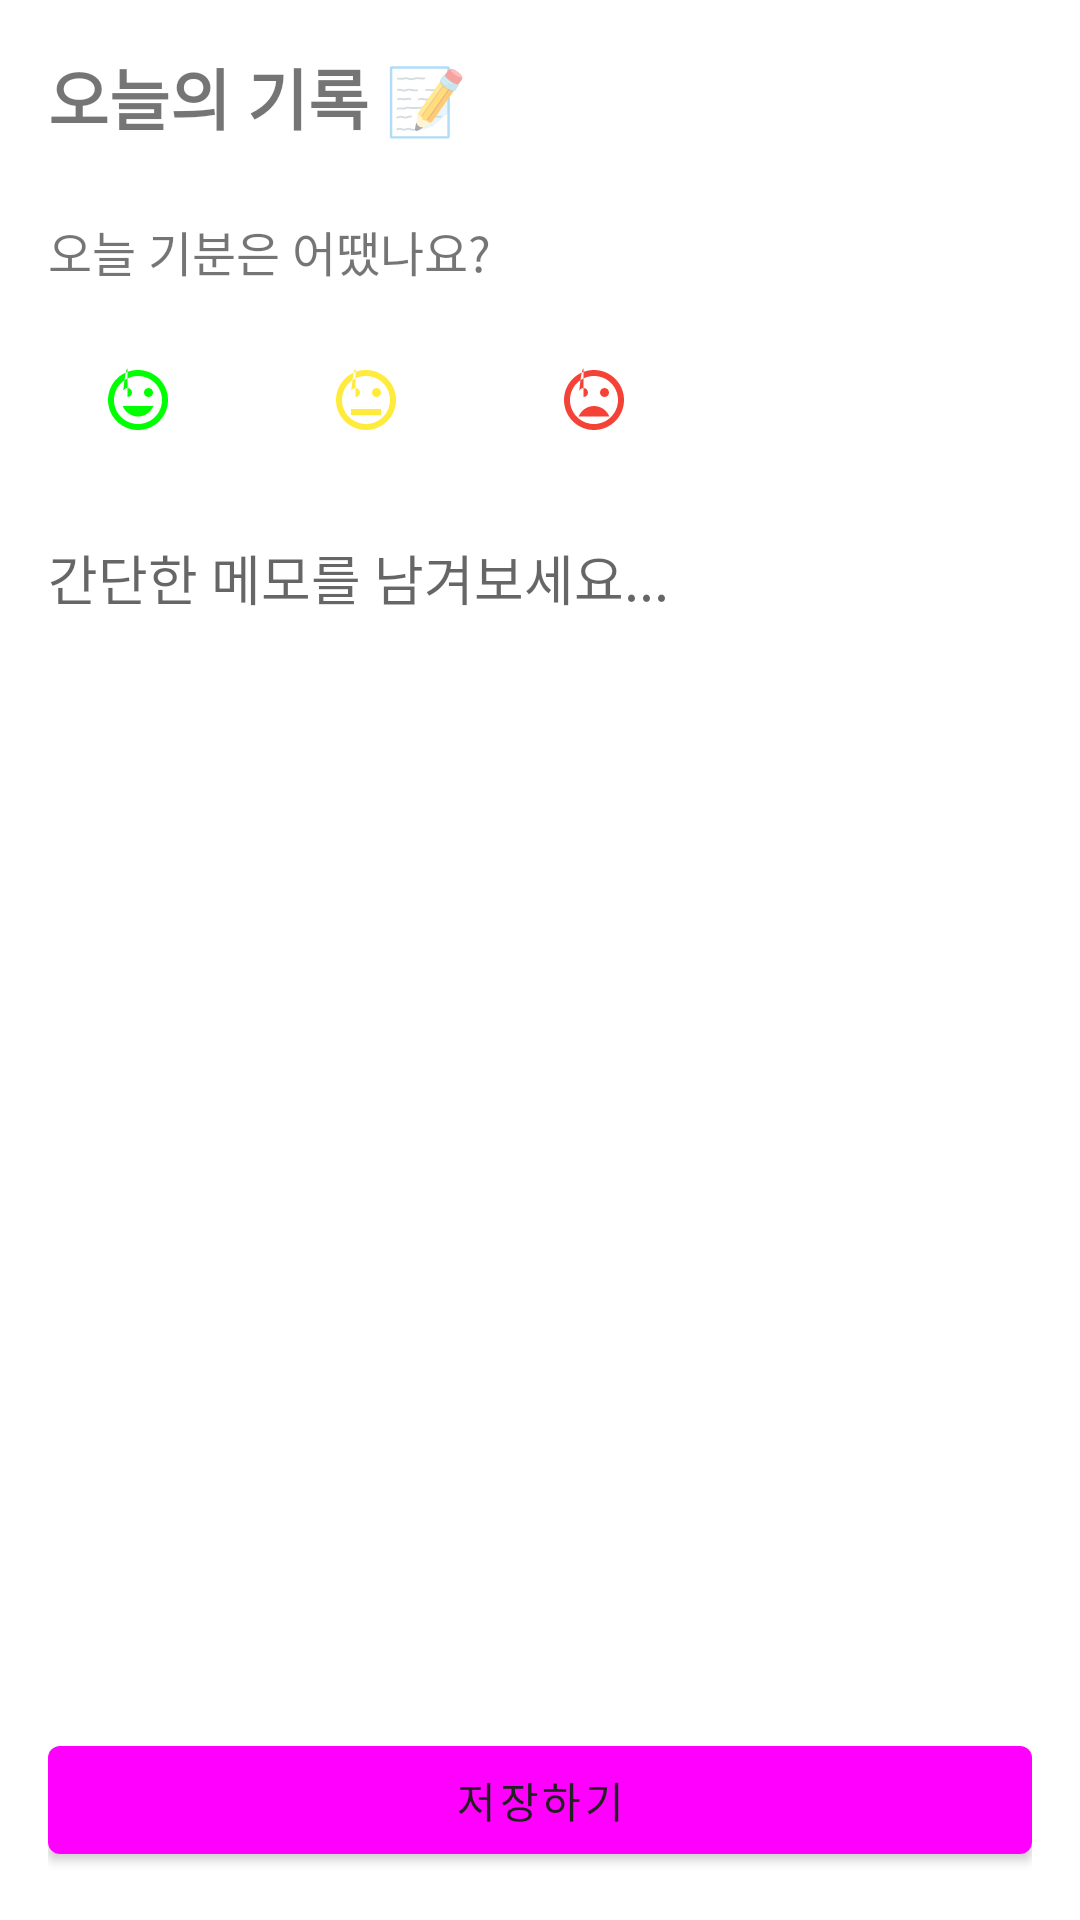

Icon click points for this 1080 x 1920 phone screenshot, format [x,y]:
mood bad: [594,399]
mood good: [138,399]
mood neutral: [366,399]
